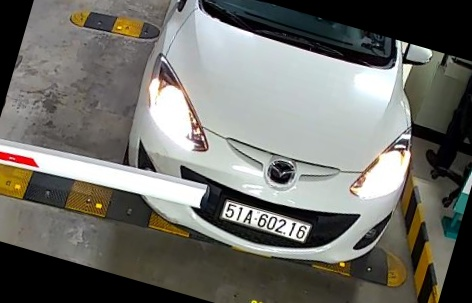plate: (220, 196, 313, 247)
